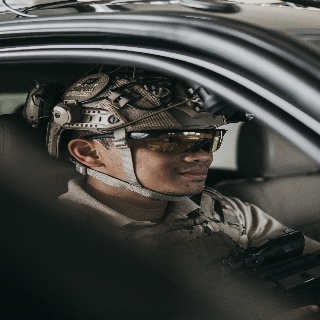rifle: (182, 227, 320, 320)
